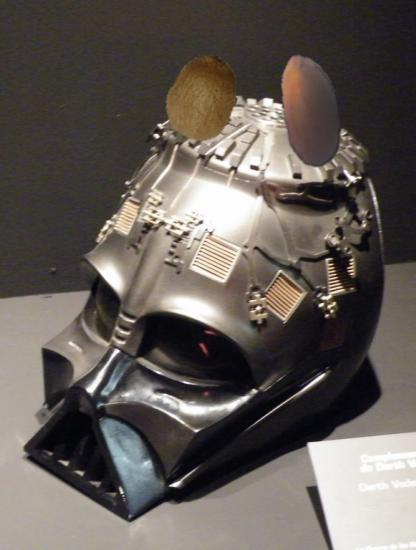Hazelnut: (252, 51, 370, 169)
Kiwi: (157, 50, 249, 142)
